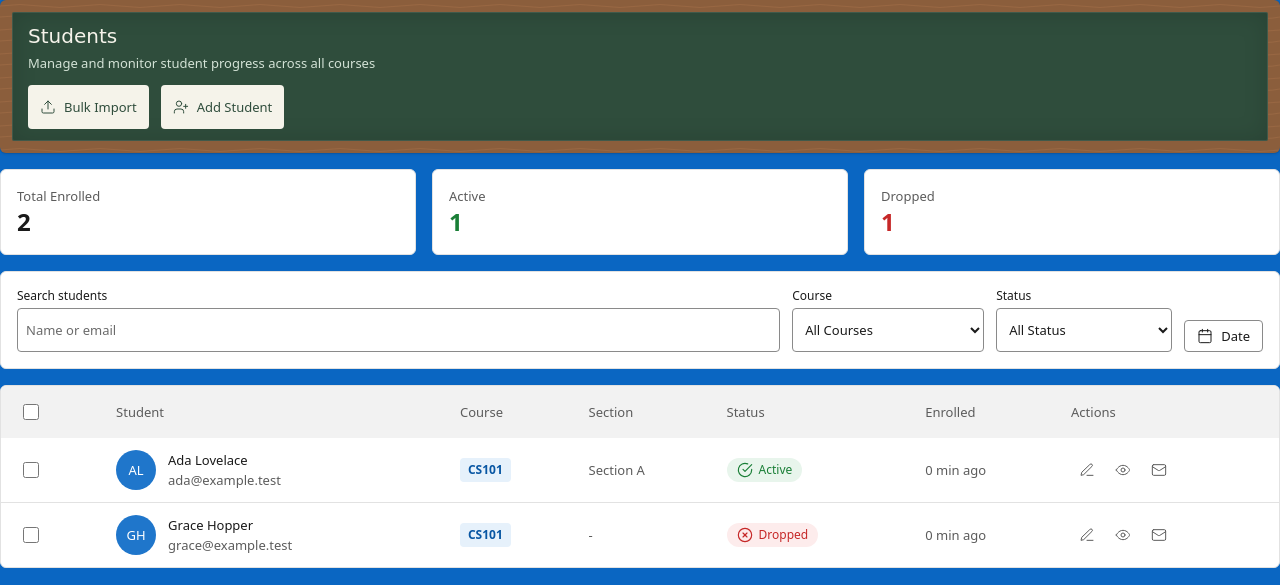
Test: LecturerStudentsPage › the select-all checkbox selects every visible row
Click the checkbox named "Select all students": (31, 412) [23, 404, 39, 420]
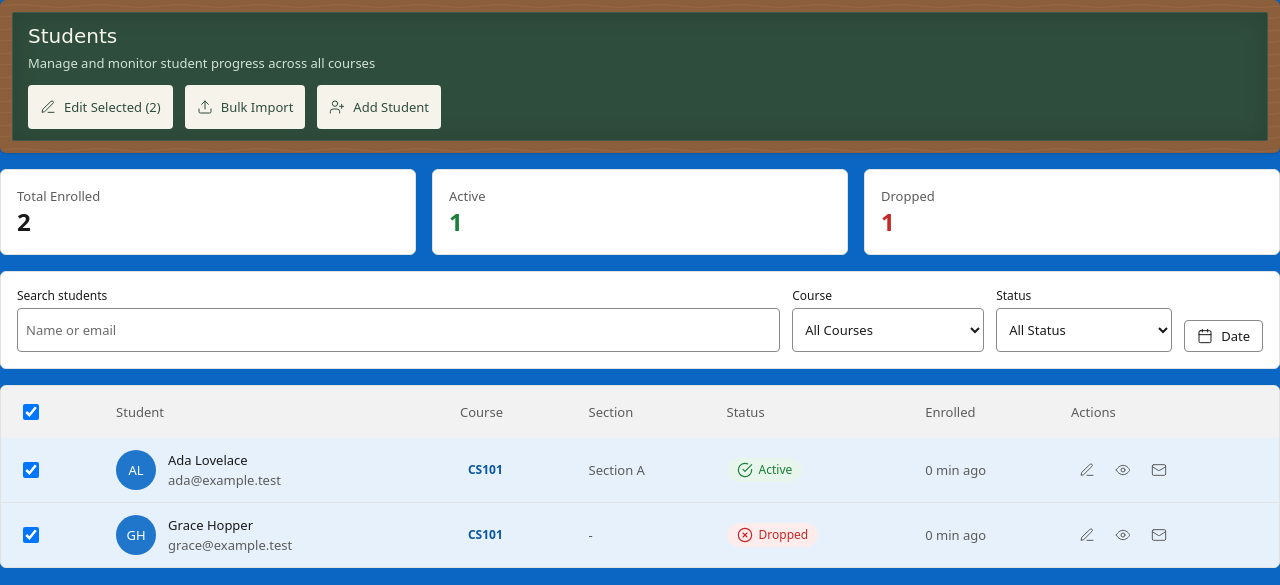
Now the checkbox named "Select Ada Lovelace" is checked, box [23, 462, 39, 478]
Now the checkbox named "Select Grace Hopper" is checked, box [23, 527, 39, 543]
Now the button "Edit Selected (2)" is shown, box [28, 85, 173, 129]
